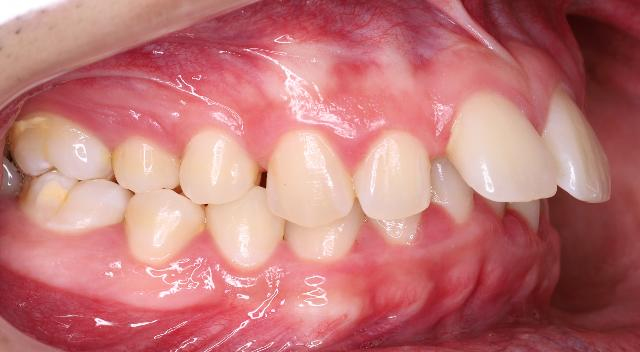canine class II 1/4: (206, 119, 367, 273)
molar class I: (10, 113, 128, 245)
